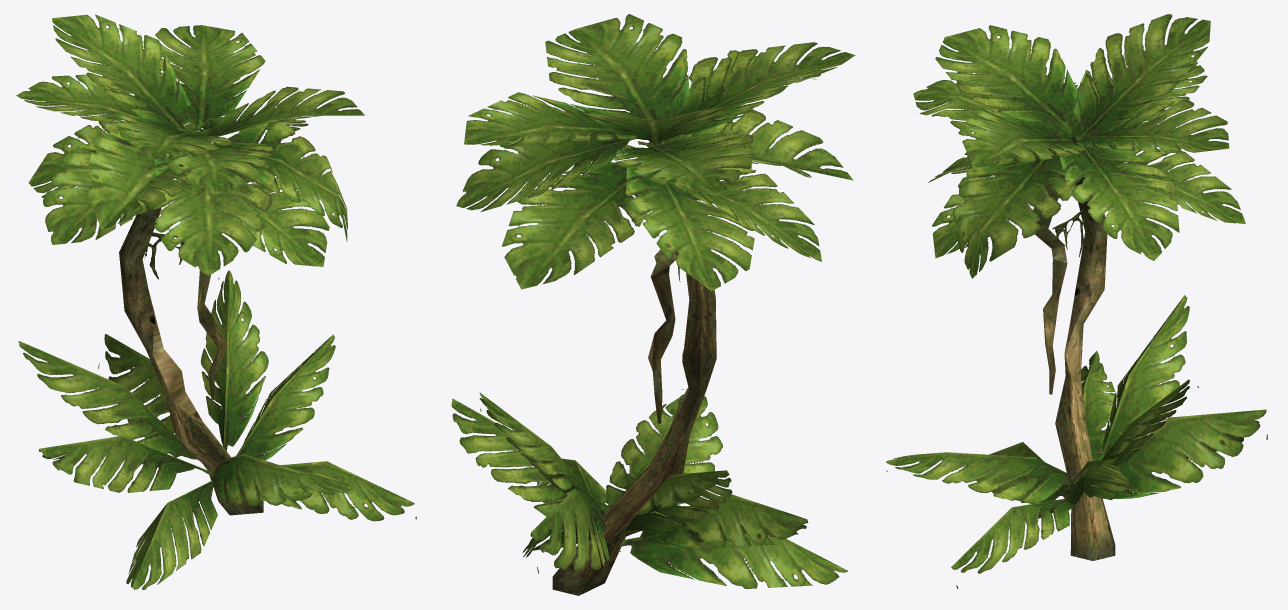
Rendered from 3004_Item_cao_2.FBX.
3 views of the same model, side by side, from view 1: azimuth 30°, elevation 25°; view 2: azimuth 150°, elevation 25°; view 3: azimuth 270°, elevation 25° (orthographic). The views are drawn at different scales.
Parts seen in each view (by area): view 1: 3004_Item_cao_2; view 2: 3004_Item_cao_2; view 3: 3004_Item_cao_2.
Part boxes in pixels (box(x1,y1,x2,y2)): 3004_Item_cao_2: box(16, 14, 416, 589); 3004_Item_cao_2: box(451, 14, 855, 595); 3004_Item_cao_2: box(886, 14, 1267, 588).
Size of the model in its own units: 232 by 343 by 260.
